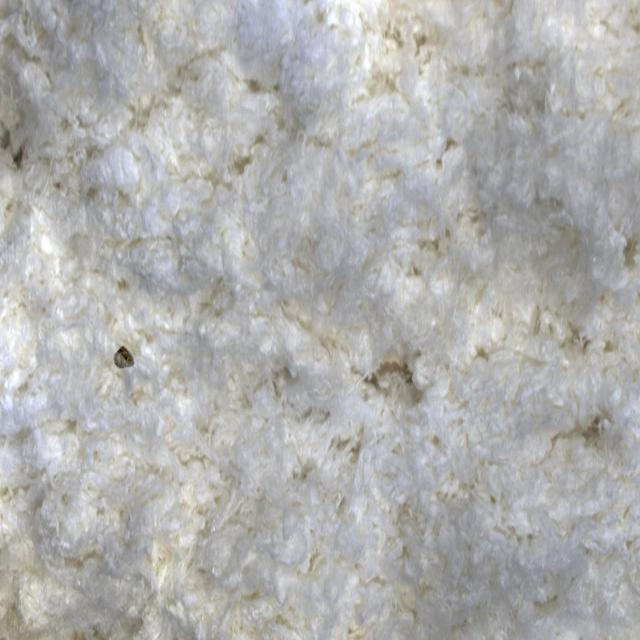dust: (95, 313, 156, 397)
